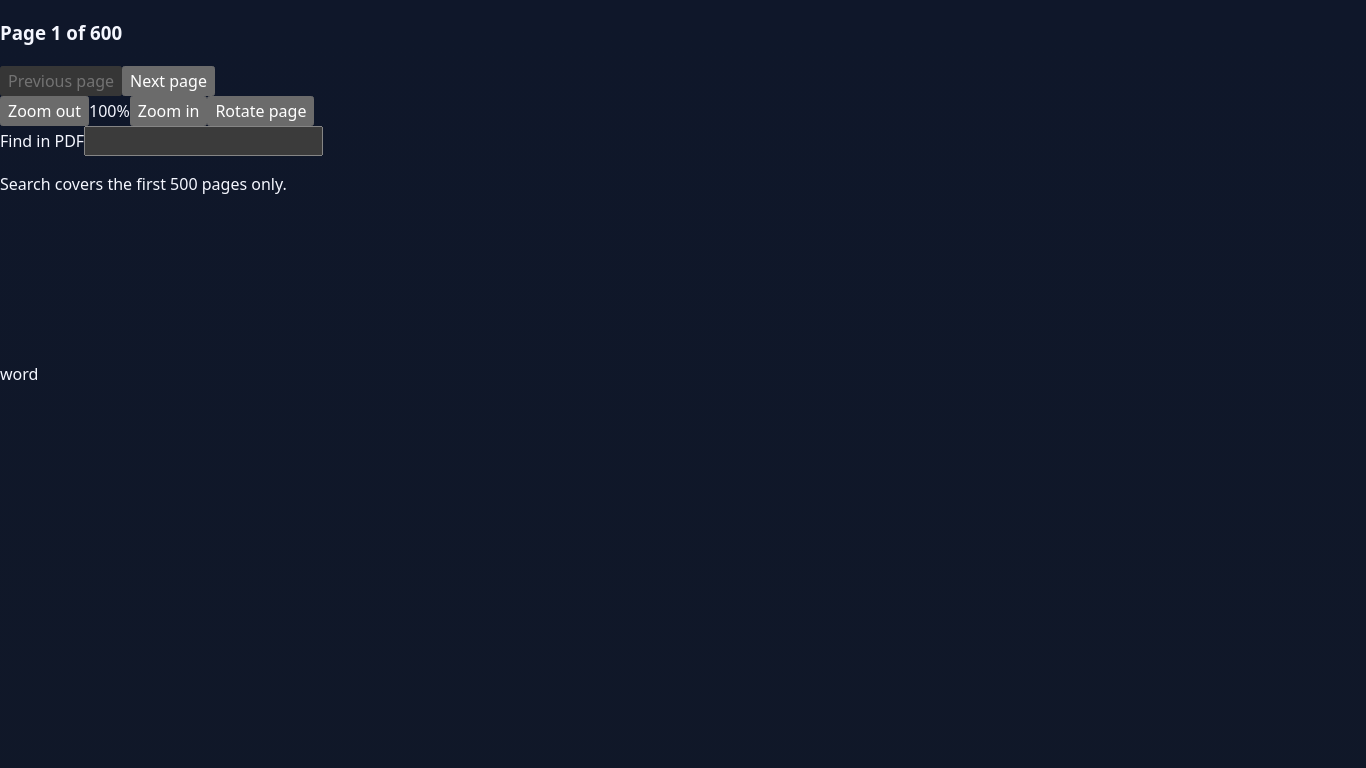
PDF Phase 7 validation: caps and lifecycle › caps searchable extraction at 500 pages and says so
Check: the text "Search covers the first 500 pages only." is shown, box [0,172,287,194]
Type "word" into the field labelled "Find in PDF". click: x=204, y=140
box: [84,126,323,156]
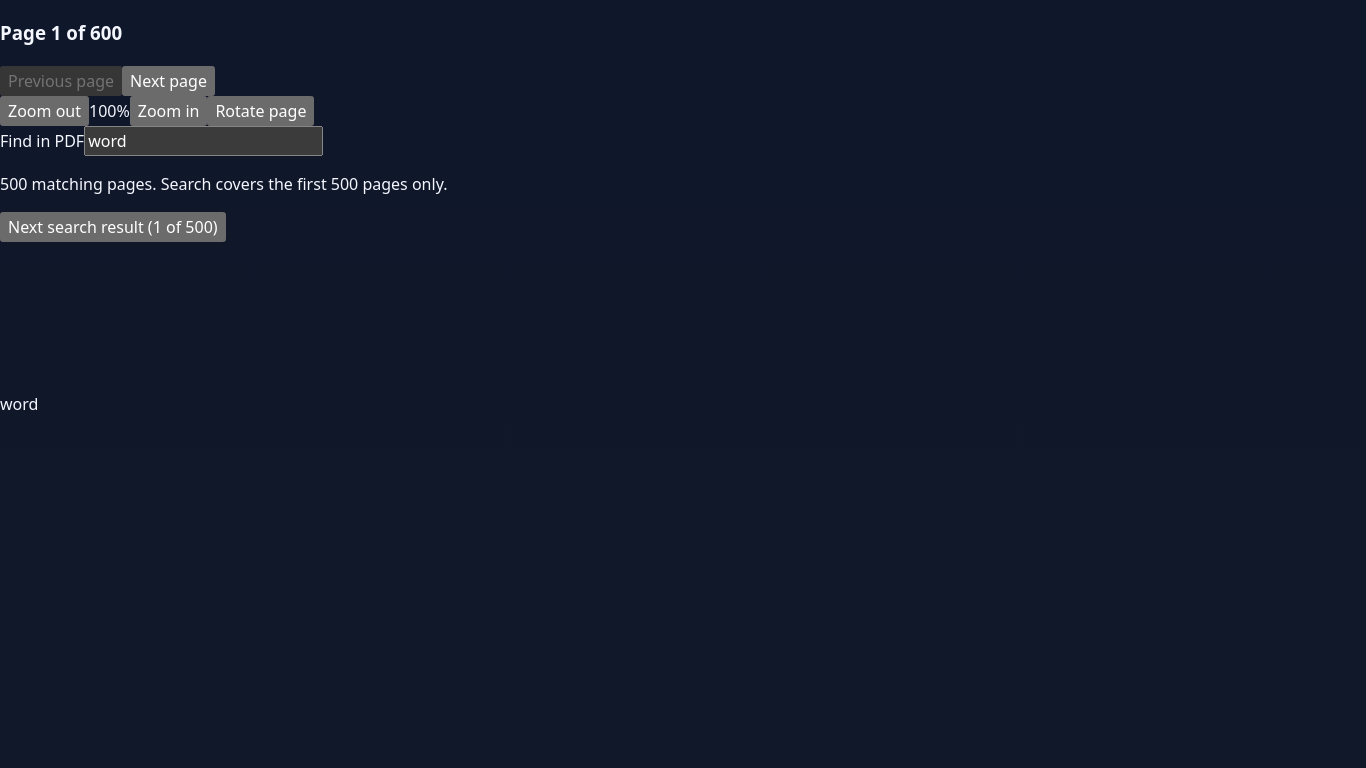
Check: the text "500 matching pages. Search covers the first 500 pages only." is shown, box [0,172,448,194]
